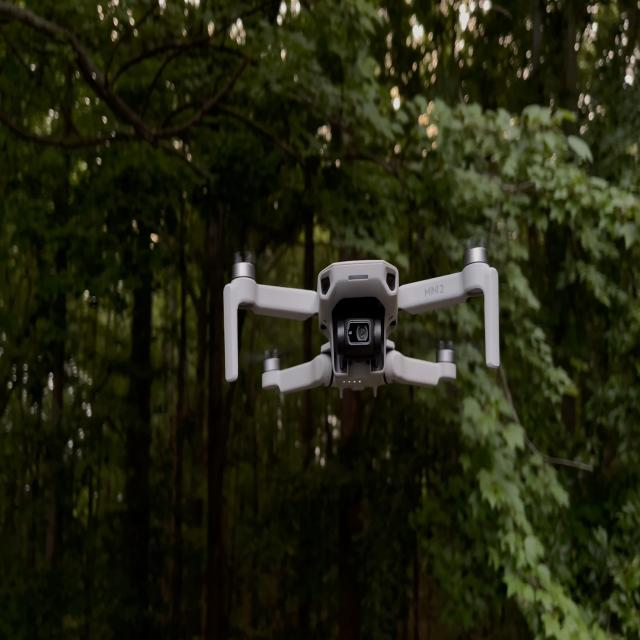Drone: (225, 236, 502, 416)
